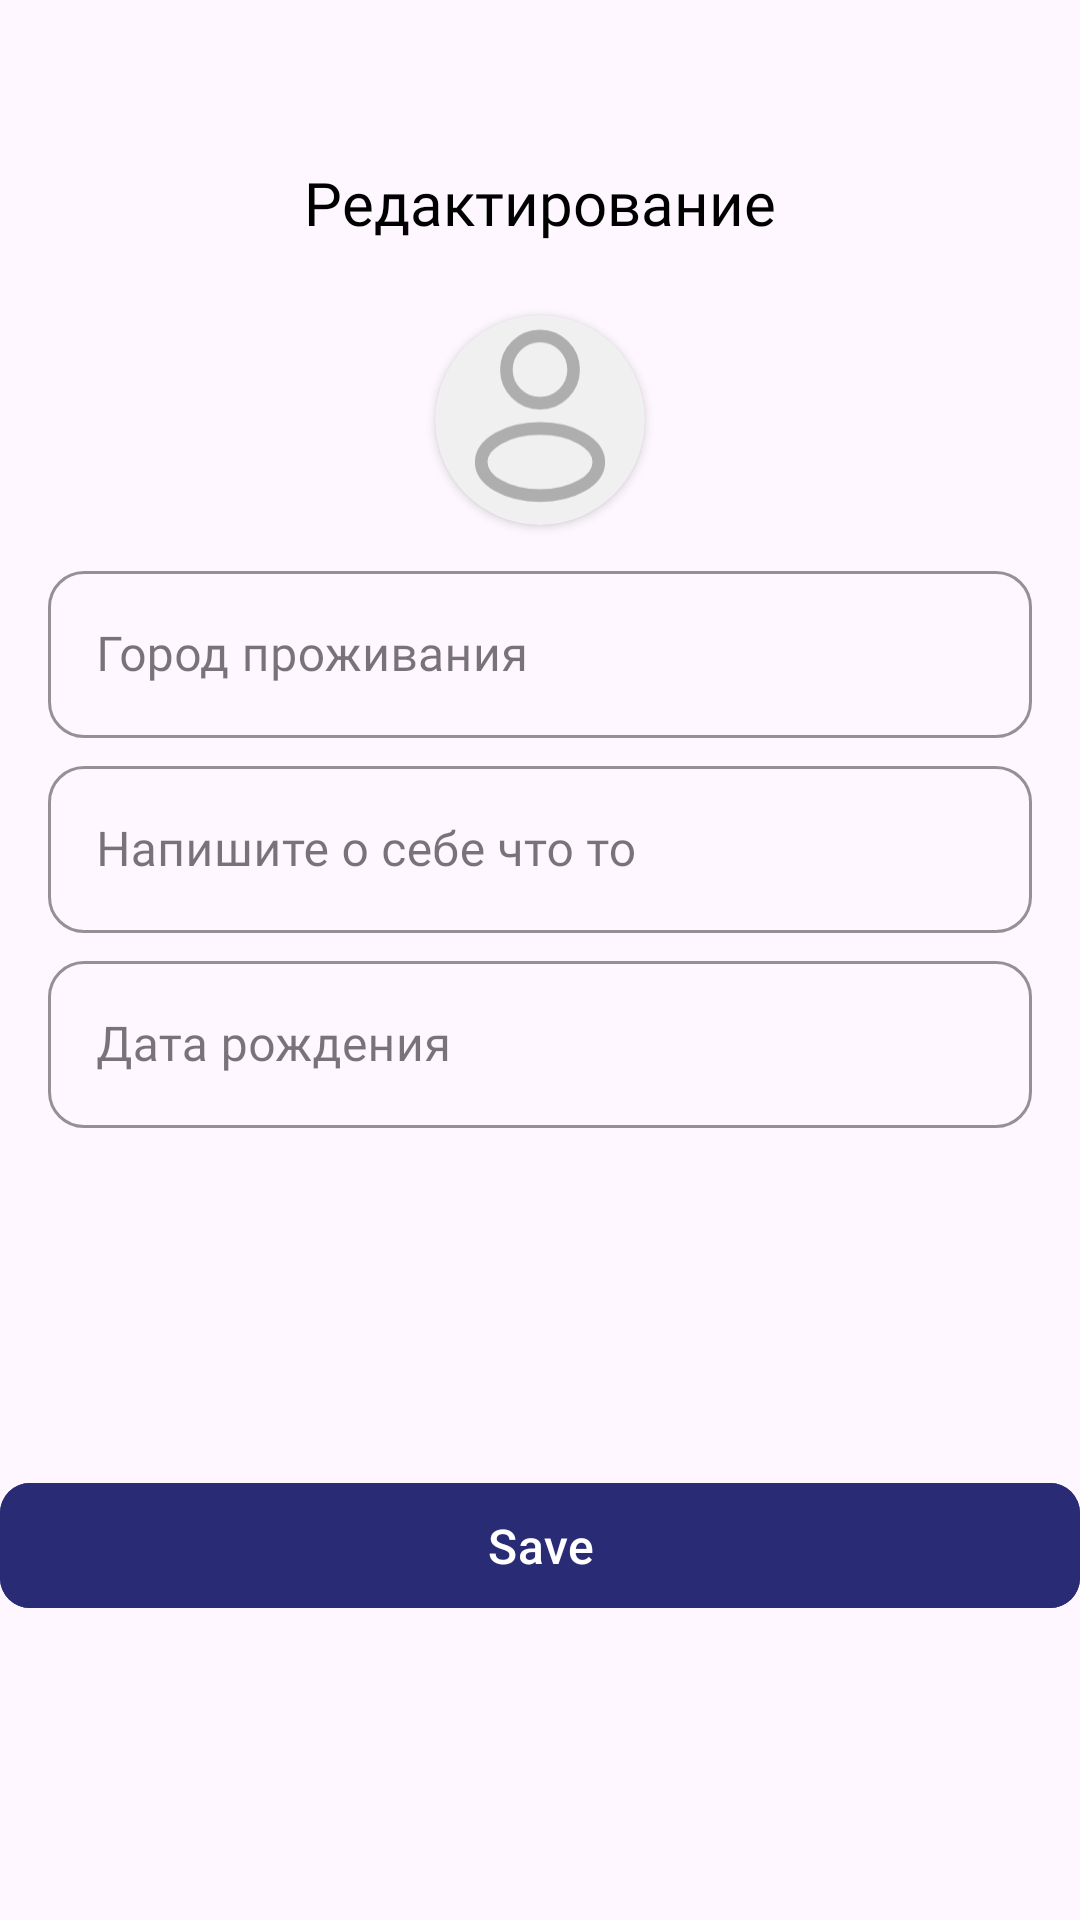

Locate icon controls on the screen. Image size 1080 x 1920, boxes as detection(x1, y1, x2, y2).
profile: detection(435, 315, 645, 525)
